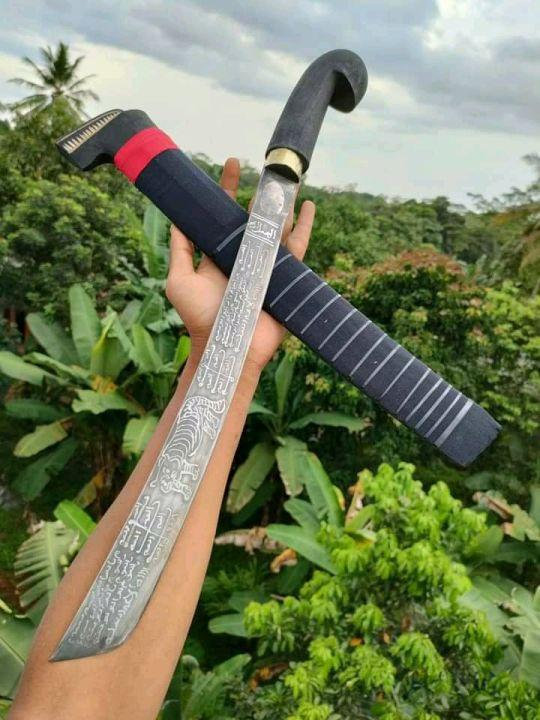facao: (51, 49, 366, 660)
